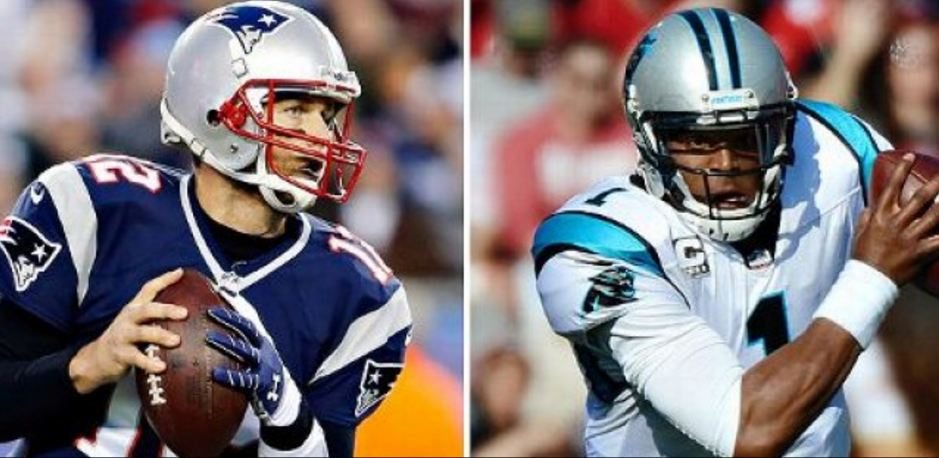futbol americano: (137, 268, 250, 458), (872, 151, 939, 301)
